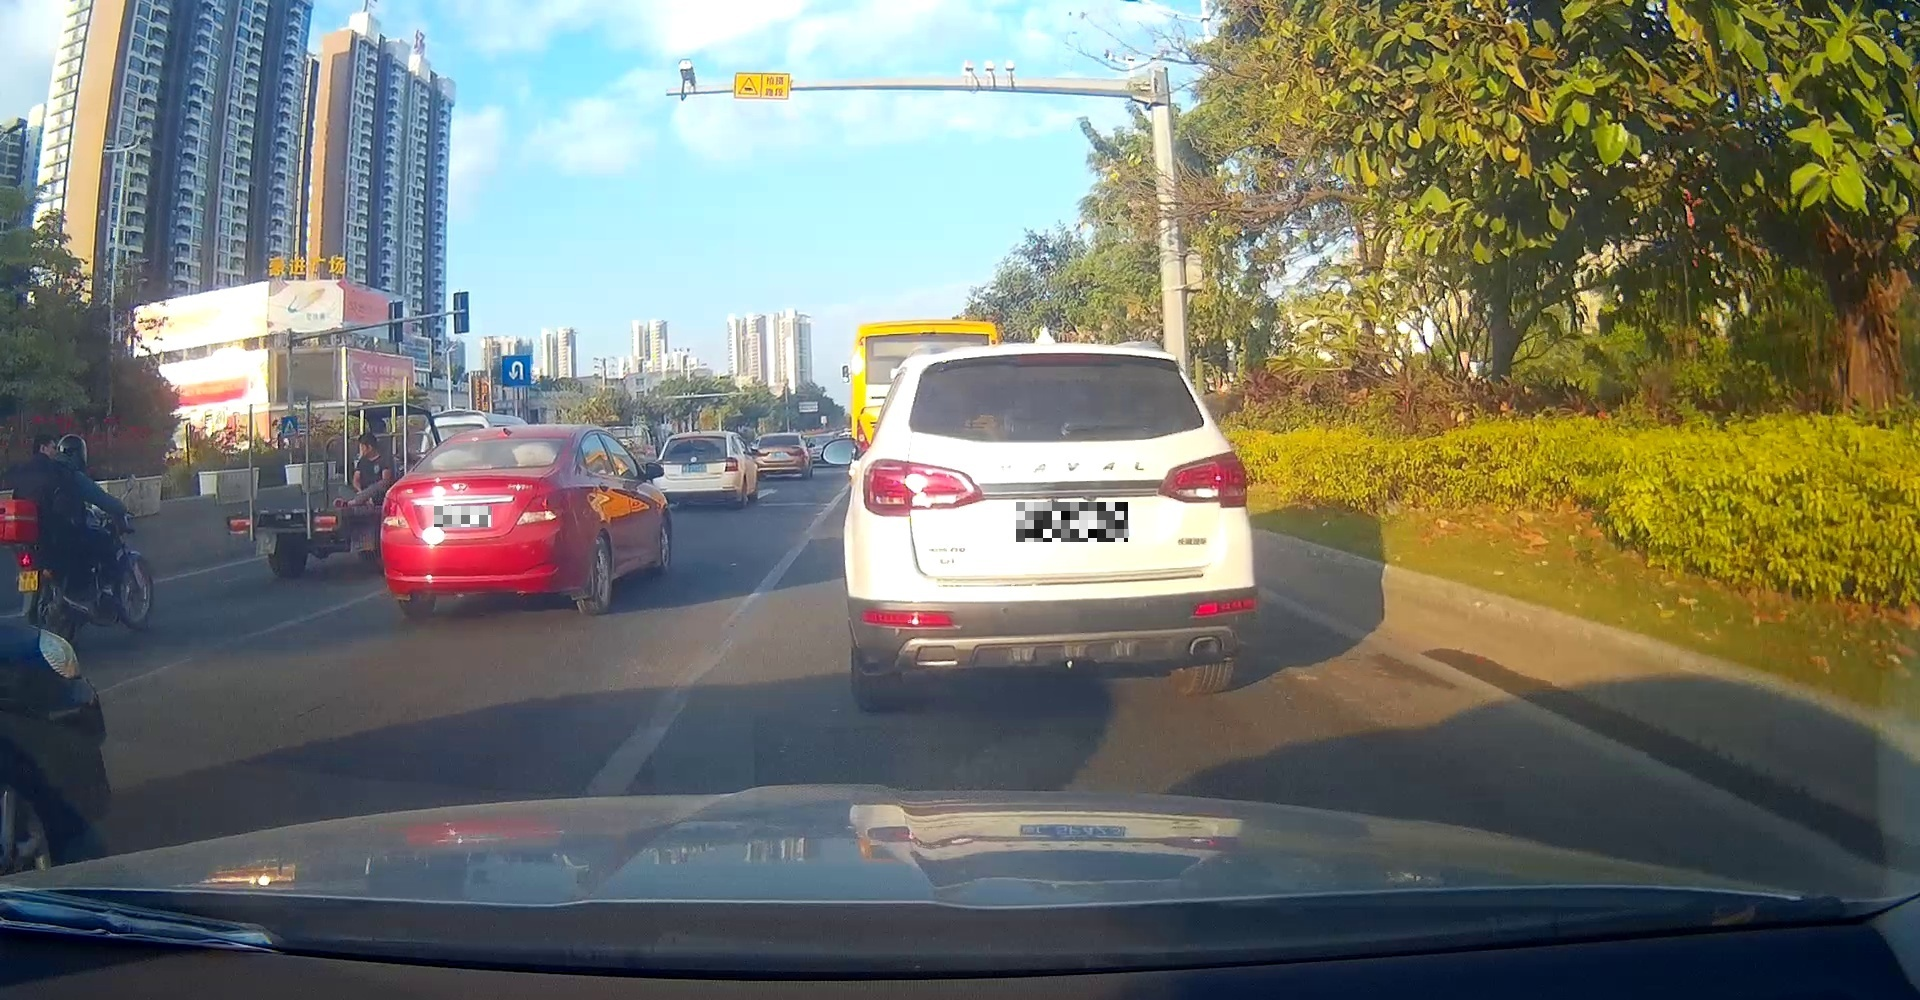L_light: (862, 458, 985, 516), (381, 495, 411, 528)
R_light: (1158, 451, 1247, 508), (516, 487, 579, 525)
T_light: (1015, 353, 1105, 364), (463, 464, 493, 470)
day-no: (843, 341, 1257, 712), (380, 425, 583, 618)
plate_1: (434, 506, 491, 527)
plate_2: (1016, 503, 1128, 542)
